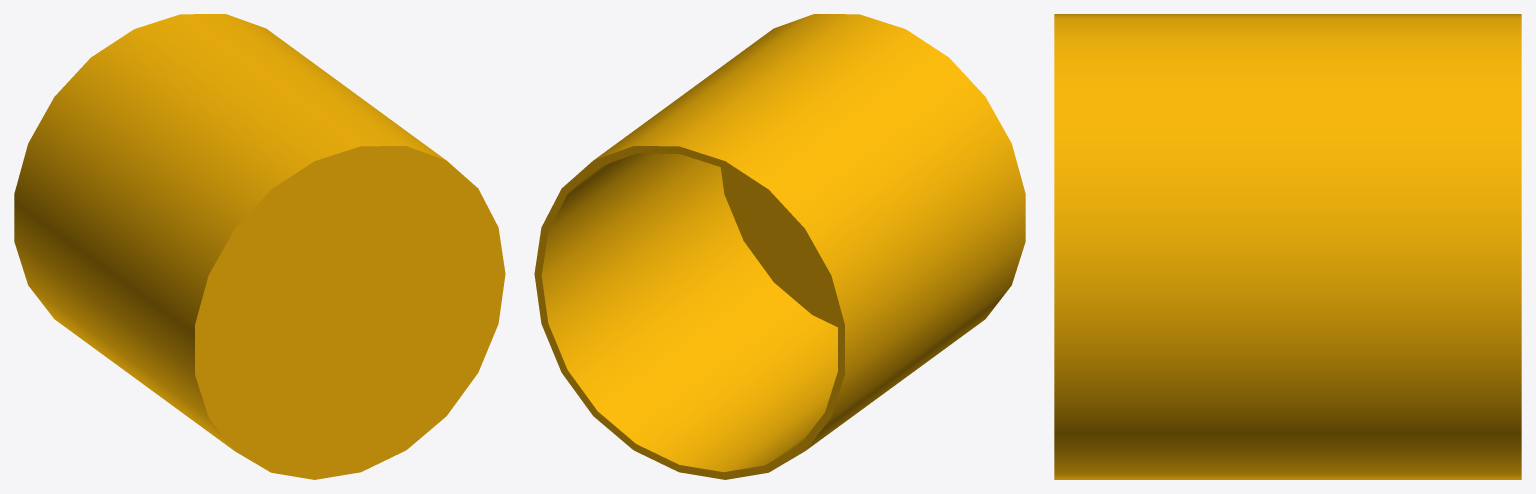
File: Penbox.FBX
3 views of the same model, side by side, from view 1: azimuth 30°, elevation 25°; view 2: azimuth 150°, elevation 25°; view 3: azimuth 270°, elevation 25° (orthographic). The views are drawn at different scales.
Visible parts, largest first — view 1: Object002; view 2: Object002; view 3: Object002.
Boxes of the visible parts, <box> form: Object002: <box>14,14,505,479</box>; Object002: <box>534,14,1025,479</box>; Object002: <box>1054,14,1521,479</box>.
Size of the model in its own units: 8.95 by 8.97 by 9.
